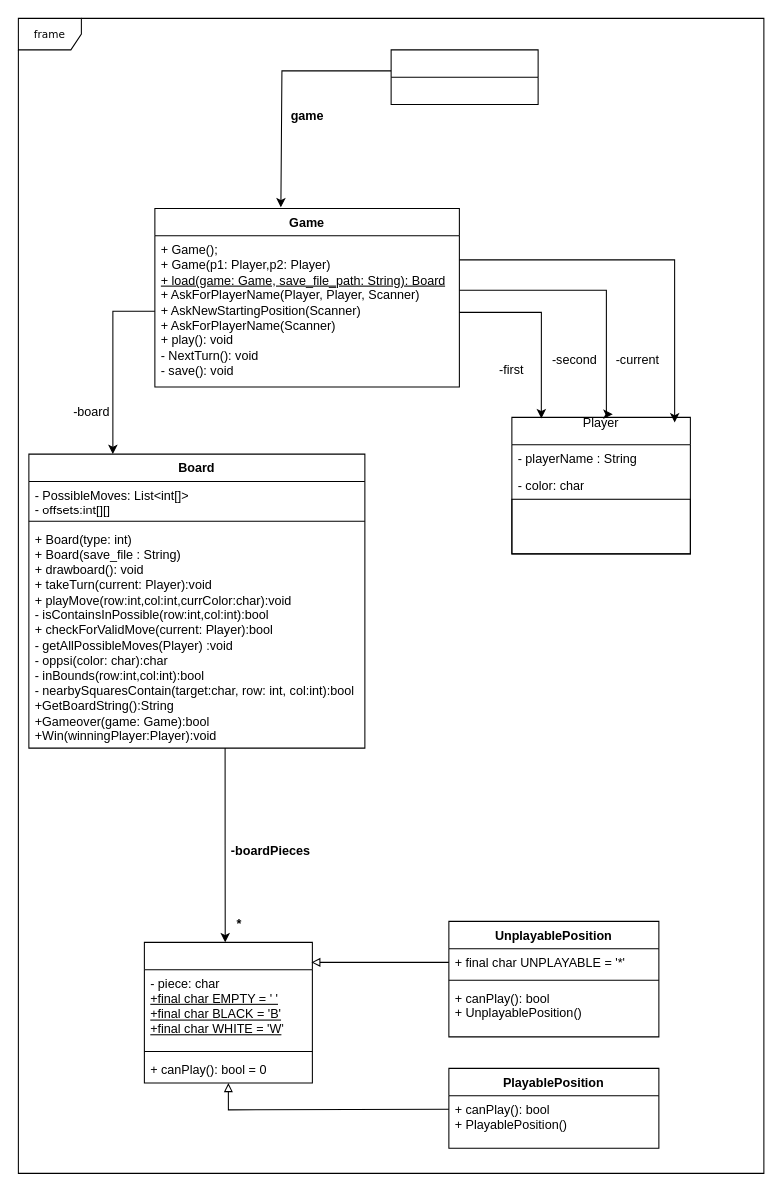
The diagram is 782 pixels wide and 1192 high, and some of its shapes have lost their labels. Each missing label, with the box of its shape:
(A)Position: (143, 941, 312, 1083)
+ Player(name: String) + equals(other: Player): bool: (511, 498, 690, 554)
Driver: (390, 49, 538, 104)
